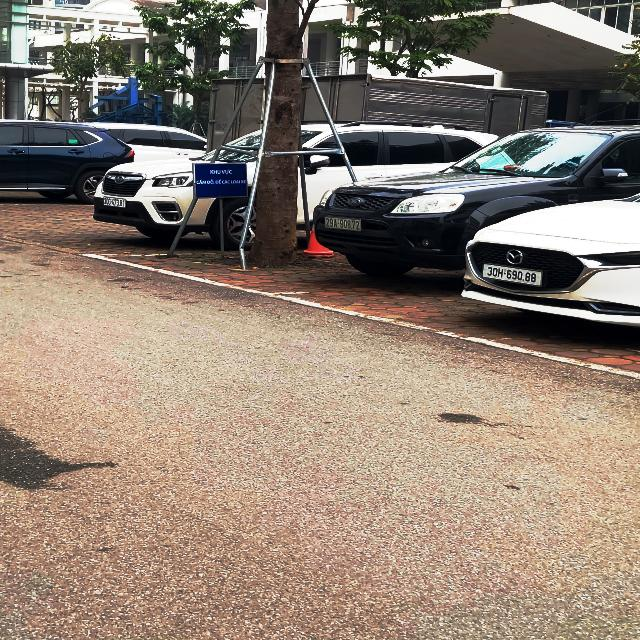license_plate: (482, 264, 544, 287), (325, 217, 362, 232), (105, 197, 127, 209)
